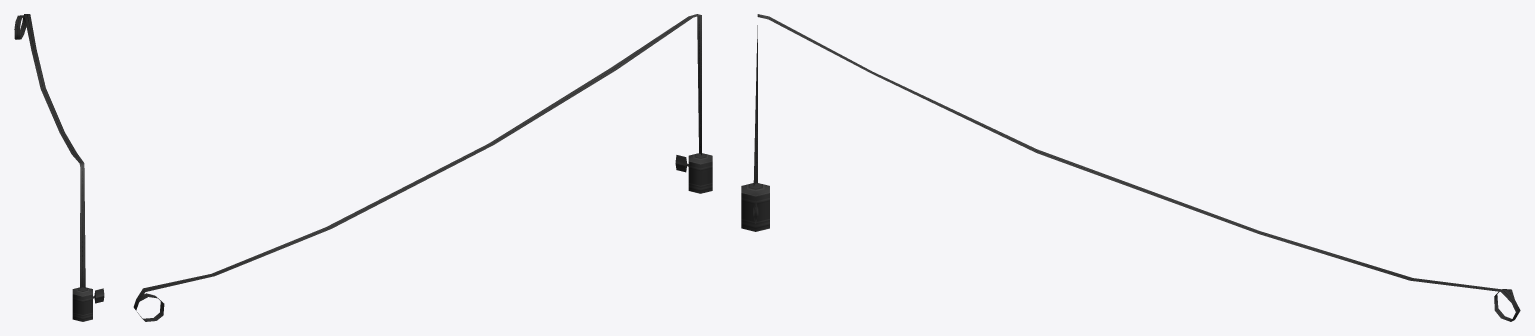
File: jsf_2P_Light_s01_b.fbx
The picture shows the model from 3 angles, left to right: view 1: azimuth 30°, elevation 25°; view 2: azimuth 150°, elevation 25°; view 3: azimuth 270°, elevation 25°; orthographic projection. The views are drawn at different scales.
Visible parts, largest first — view 1: jsf_2P_Light_s01_b; view 2: jsf_2P_Light_s01_b; view 3: jsf_2P_Light_s01_b.
Boxes of the visible parts, x1,y1,x2,y2 form: jsf_2P_Light_s01_b: [14, 14, 104, 321]; jsf_2P_Light_s01_b: [133, 14, 712, 321]; jsf_2P_Light_s01_b: [741, 14, 1520, 321].
Size of the model in its own units: 36.52 by 23.06 by 77.65.
